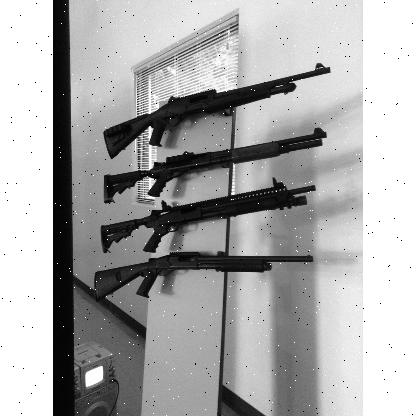gun: (101, 61, 331, 161), (99, 172, 317, 254), (101, 126, 329, 204), (90, 246, 312, 302)
